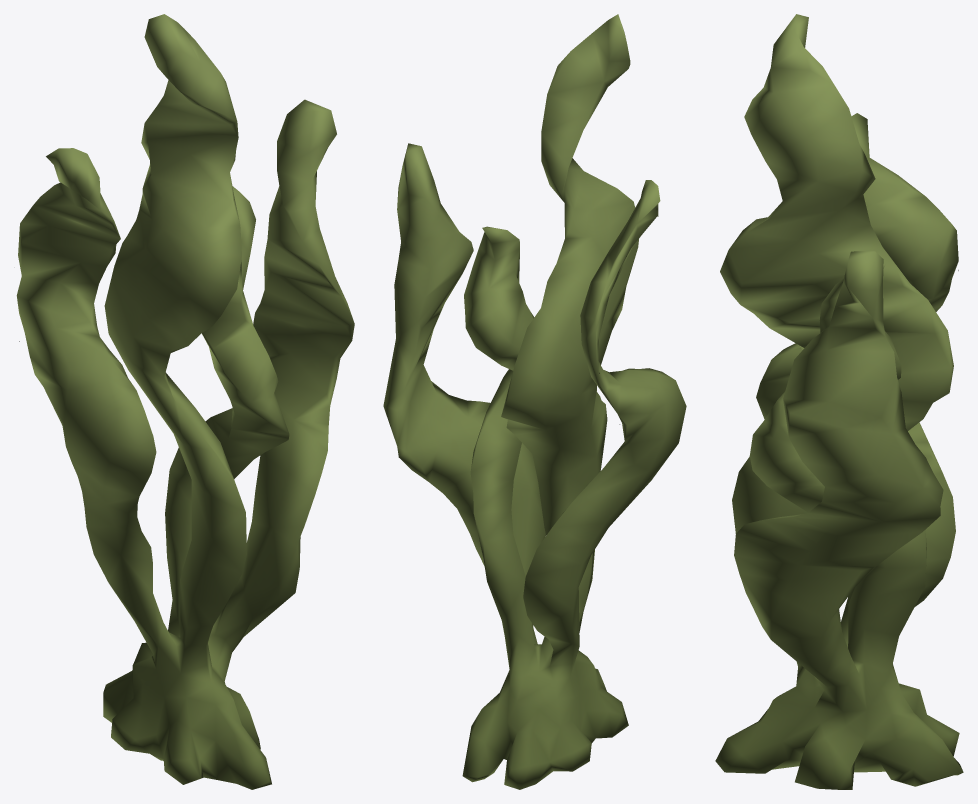
File: seaweed_ribbon.fbx
3 views of the same model, side by side, from view 1: azimuth 30°, elevation 25°; view 2: azimuth 150°, elevation 25°; view 3: azimuth 270°, elevation 25° (orthographic). The views are drawn at different scales.
Parts seen in each view (by area): view 1: seaweed_ribbon; view 2: seaweed_ribbon; view 3: seaweed_ribbon.
Part boxes in pixels (x1,y1,x2,y2): seaweed_ribbon: (16, 14, 354, 789); seaweed_ribbon: (383, 14, 686, 789); seaweed_ribbon: (715, 14, 963, 789).
Bounding box in the file's own units: 0.25 × 0.65 × 0.2.
1 material, 1 textured.
